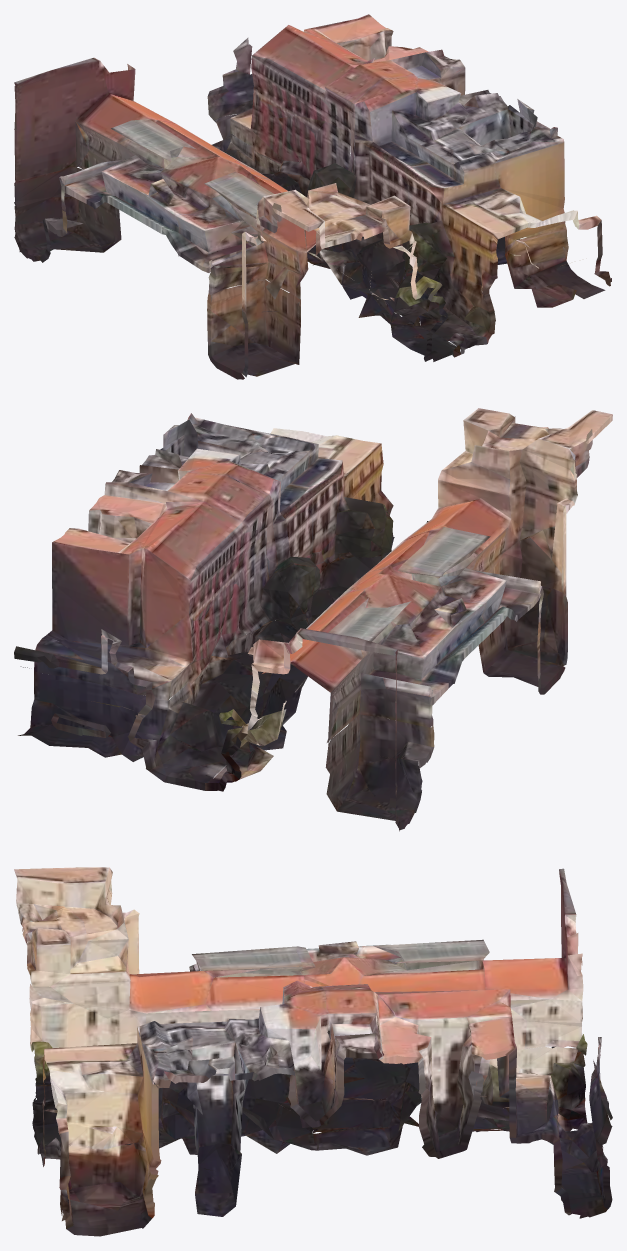
The picture shows the model from 3 angles, top to bottom: view 1: azimuth 30°, elevation 25°; view 2: azimuth 150°, elevation 25°; view 3: azimuth 270°, elevation 25°; orthographic projection. The views are drawn at different scales.
Visible parts, largest first — view 1: Mesh_0; view 2: Mesh_0; view 3: Mesh_0.
Part boxes in pixels (left/top/right/bottom): Mesh_0: left=14, top=14, right=611, bottom=379; Mesh_0: left=14, top=408, right=612, bottom=831; Mesh_0: left=14, top=867, right=612, bottom=1236.
Size of the model in its own units: 66.61 by 33.98 by 82.69.
Materials: 1 (1 with a texture image).
